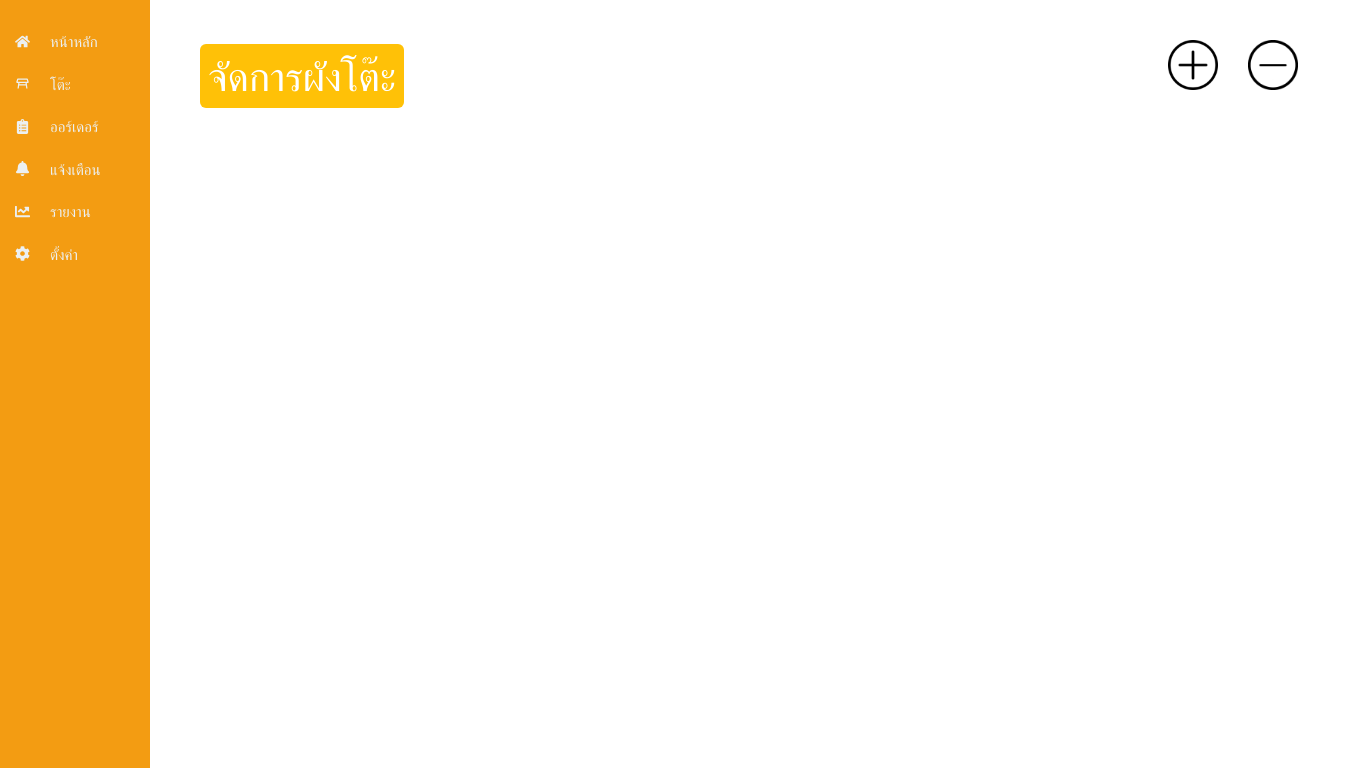
Test: TS01 - ทดสอบการทำงานจัดการผังโต๊ะ › TC01 เปิดเว็บไซต์และคลิกปุ่มเพิ่ม
Click the picture named "ปุ่มเพิ่มโต๊ะ". click: (1193, 65)
box: [1168,40,1218,90]
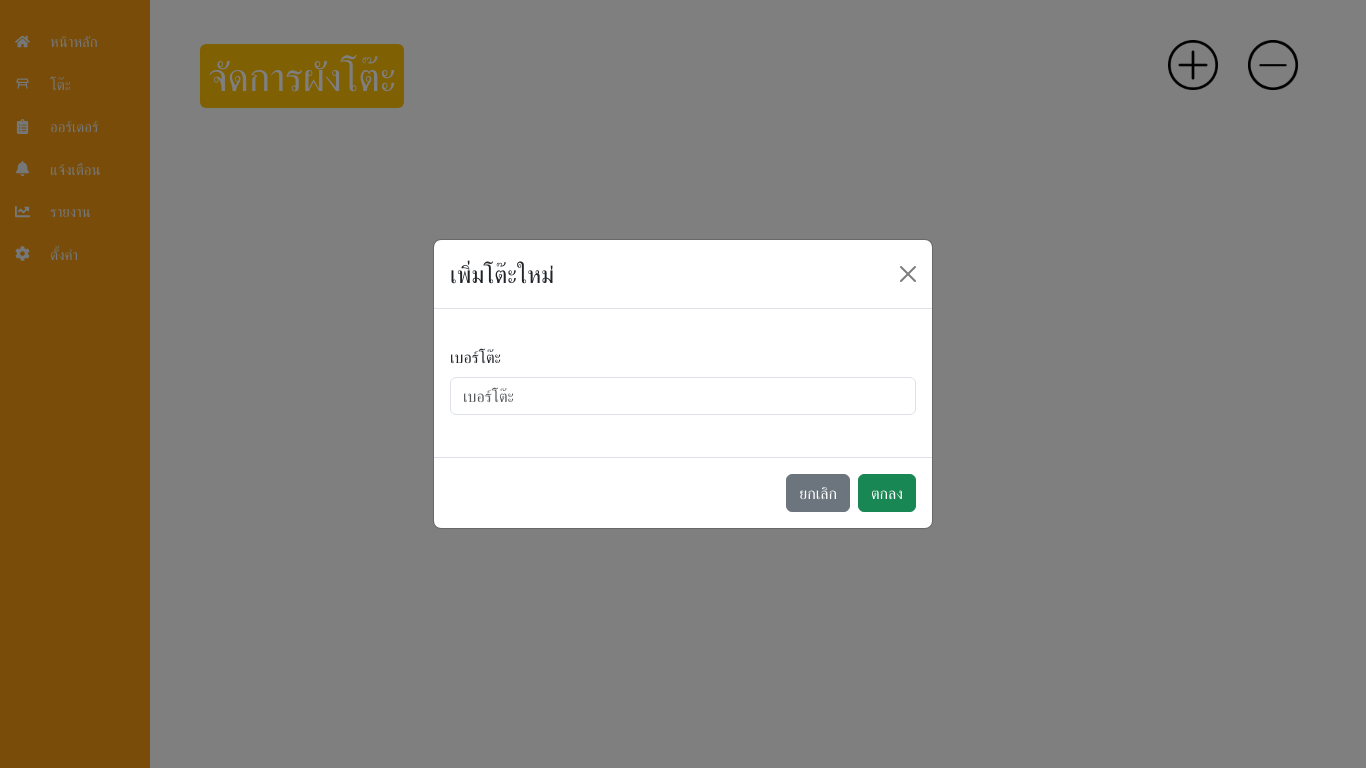
Result: the number field with placeholder "เบอร์โต๊ะ" is shown at [450,377,916,415]
